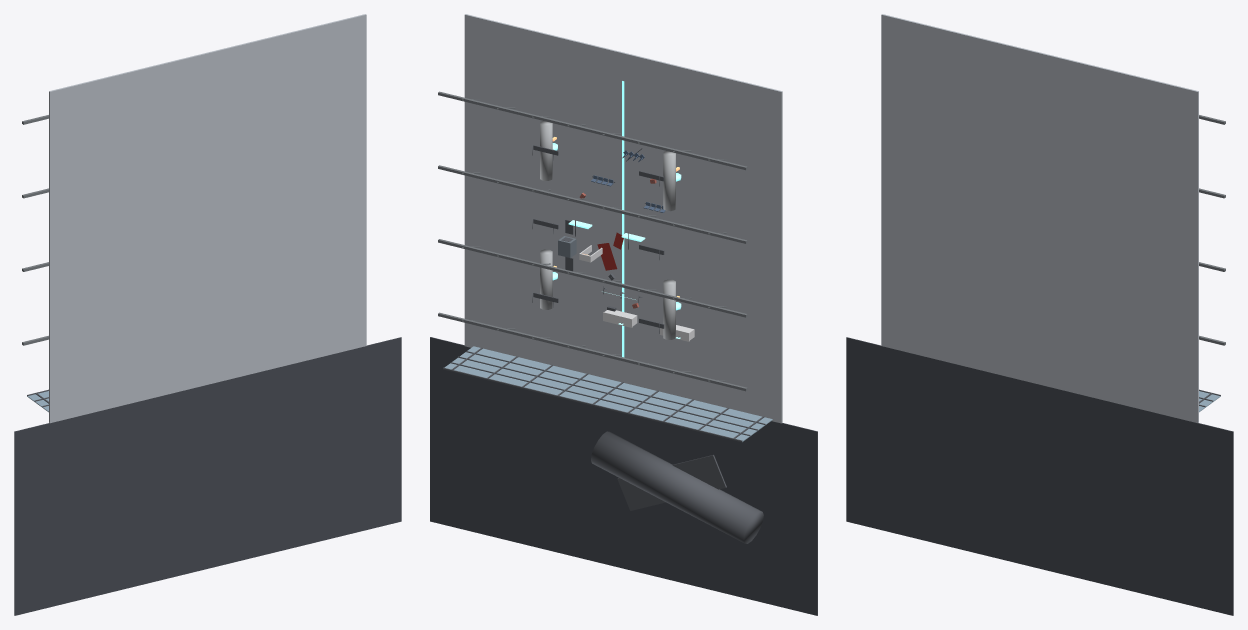
File: airport_terminal.glb
The picture shows the model from 3 angles, left to right: view 1: azimuth 30°, elevation 25°; view 2: azimuth 150°, elevation 25°; view 3: azimuth 330°, elevation 25°; orthographic projection.
Visible parts, largest first — view 1: AirportTerminalMesh; view 2: AirportTerminalMesh; view 3: AirportTerminalMesh.
Part boxes in pixels (box(x1,y1,x2,y2)): AirportTerminalMesh: box(14, 14, 401, 615); AirportTerminalMesh: box(430, 14, 817, 615); AirportTerminalMesh: box(846, 14, 1233, 615).
Bounding box in the file's own units: 44 × 56 × 6.45.
